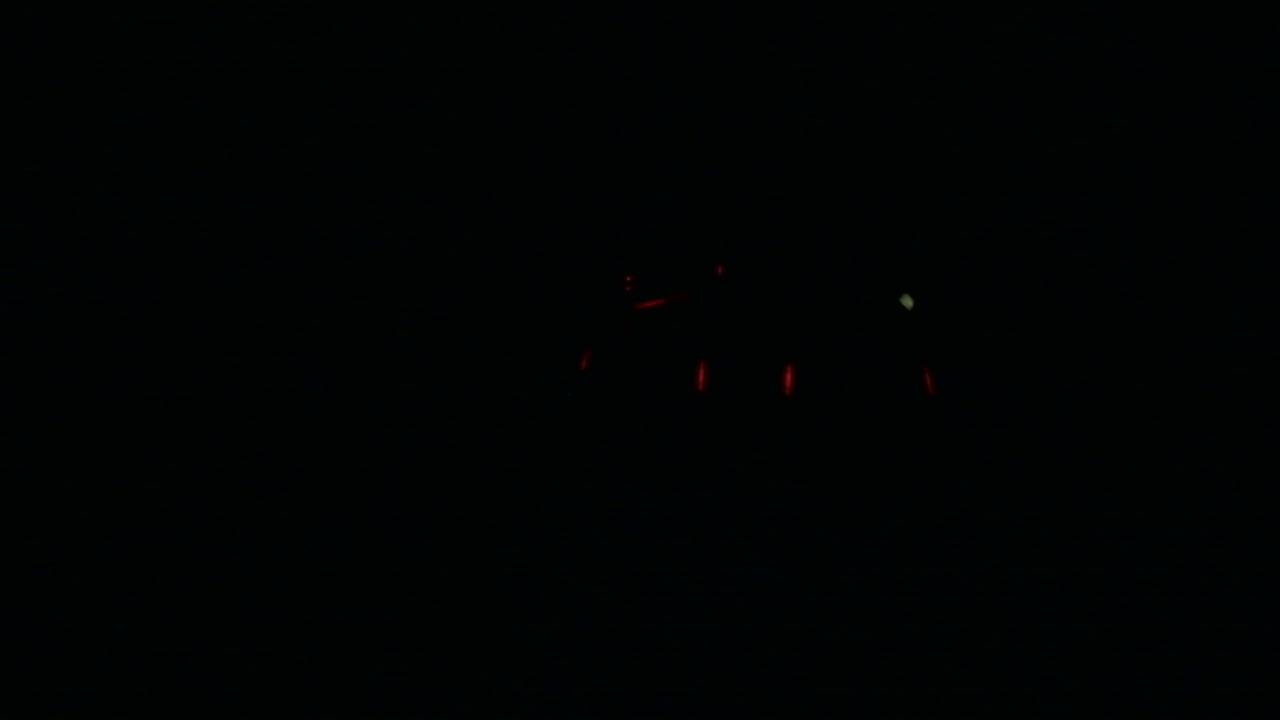lamp: (780, 362, 795, 395), (696, 363, 704, 394)
pair1: (696, 364, 794, 395)
